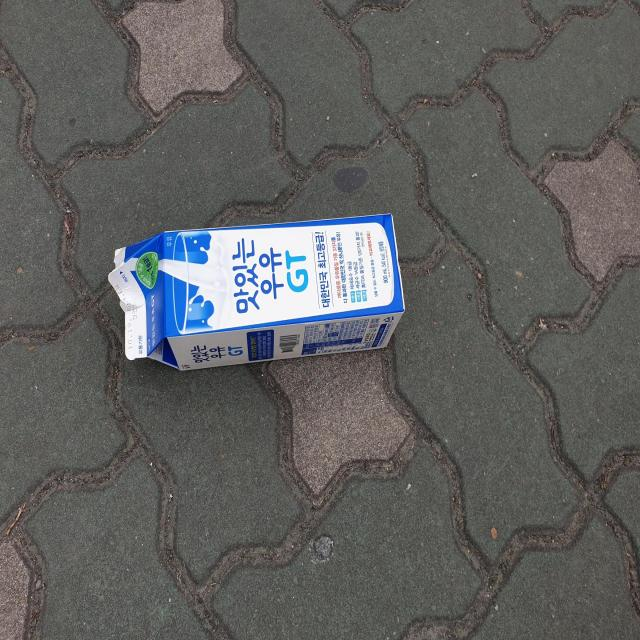paperpack: (107, 214, 405, 370)
